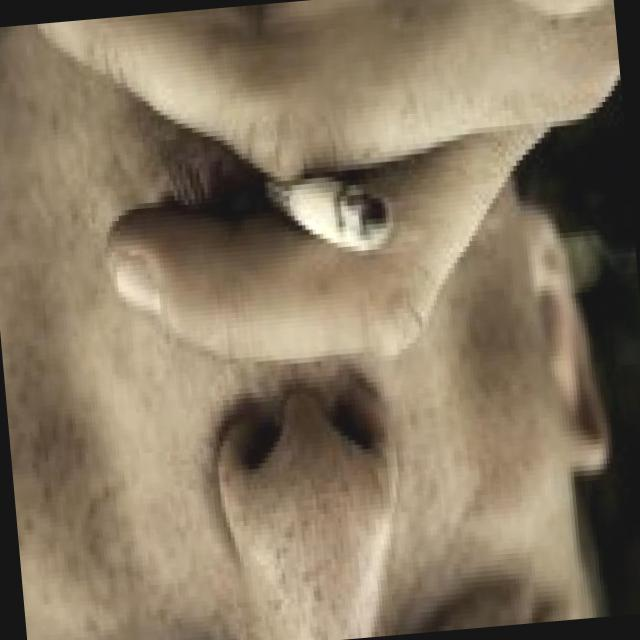cigarette: (246, 150, 404, 290)
